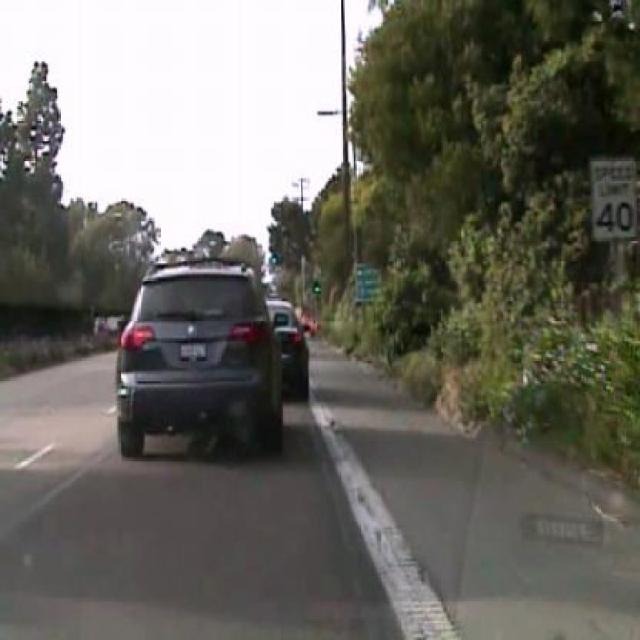speedLimit40: (589, 156, 640, 240)
